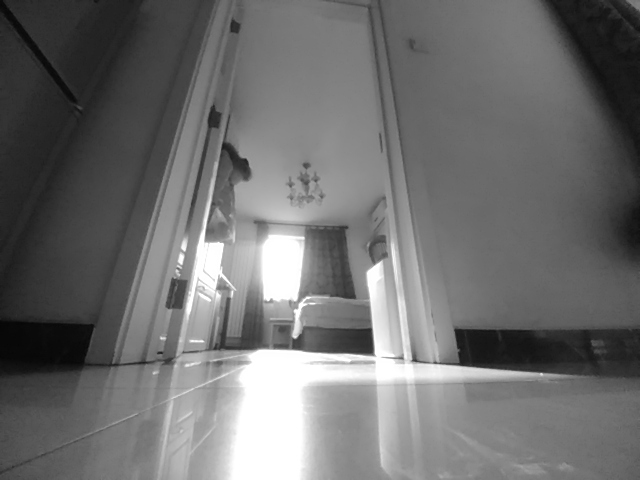curtain: (238, 221, 271, 349)
